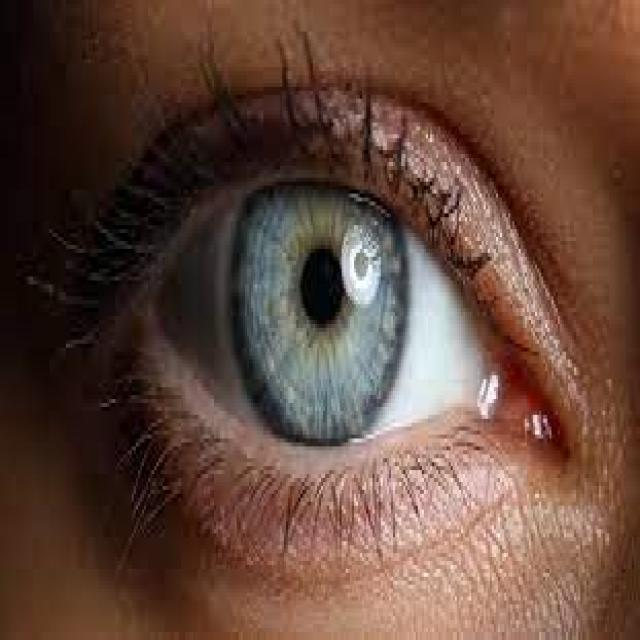Eyes-iris: (228, 146, 417, 454)
